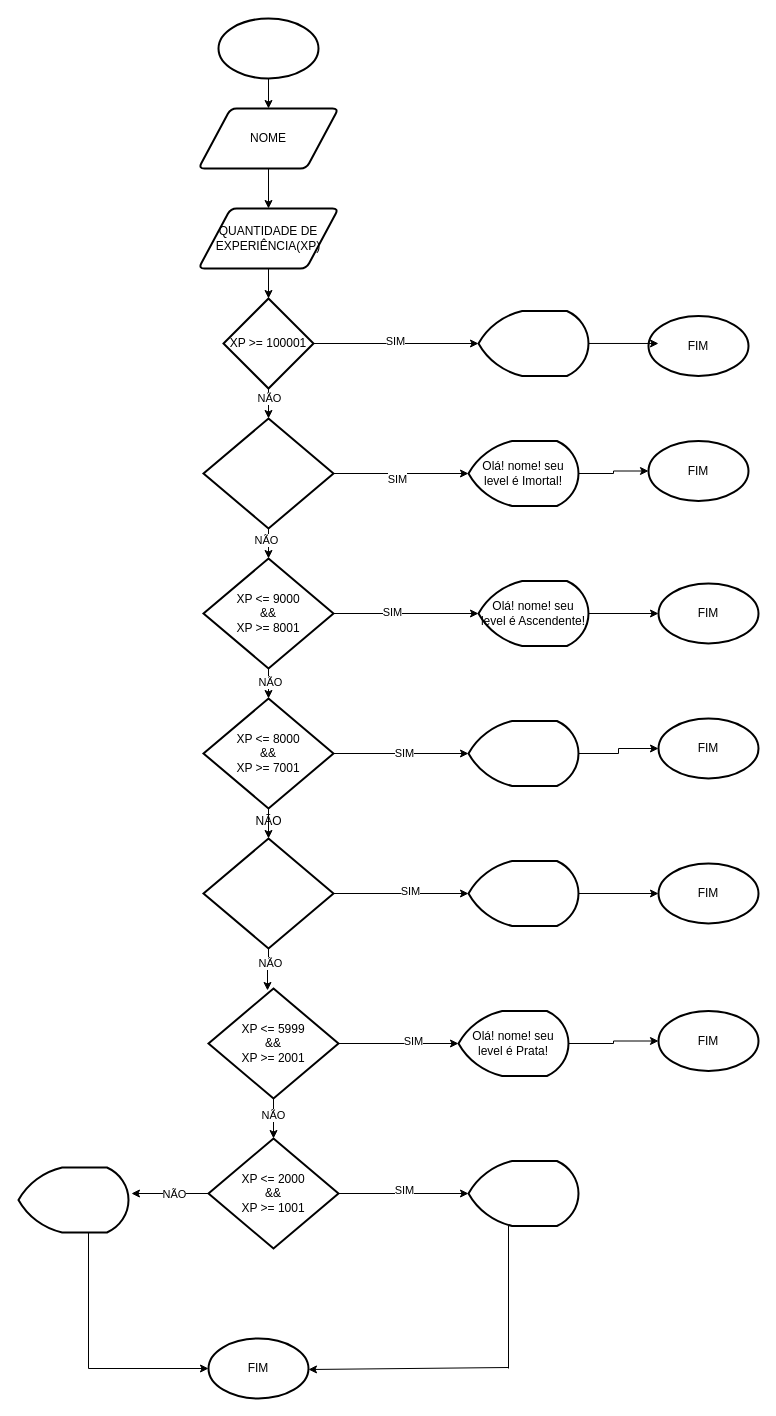
Image size: 776x1416. Some labels were removed from this diagram. Each missing label, with the centre of its shape:
INÍCIO: the point at 268,48
Olá! nome! seu level é Bronze!: the point at 523,1193
Olá! nome! seu level é Ferro!: the point at 73,1199
Olá! nome! seu level é Ouro!: the point at 523,893
Olá! nome! seu level é Platina!: the point at 523,753
Olá! nome! seu level é Radiante!: the point at 533,343
XP <= 10000 && XP >= 9001: the point at 268,473
XP <= 7000 && XP >= 6000: the point at 268,893
